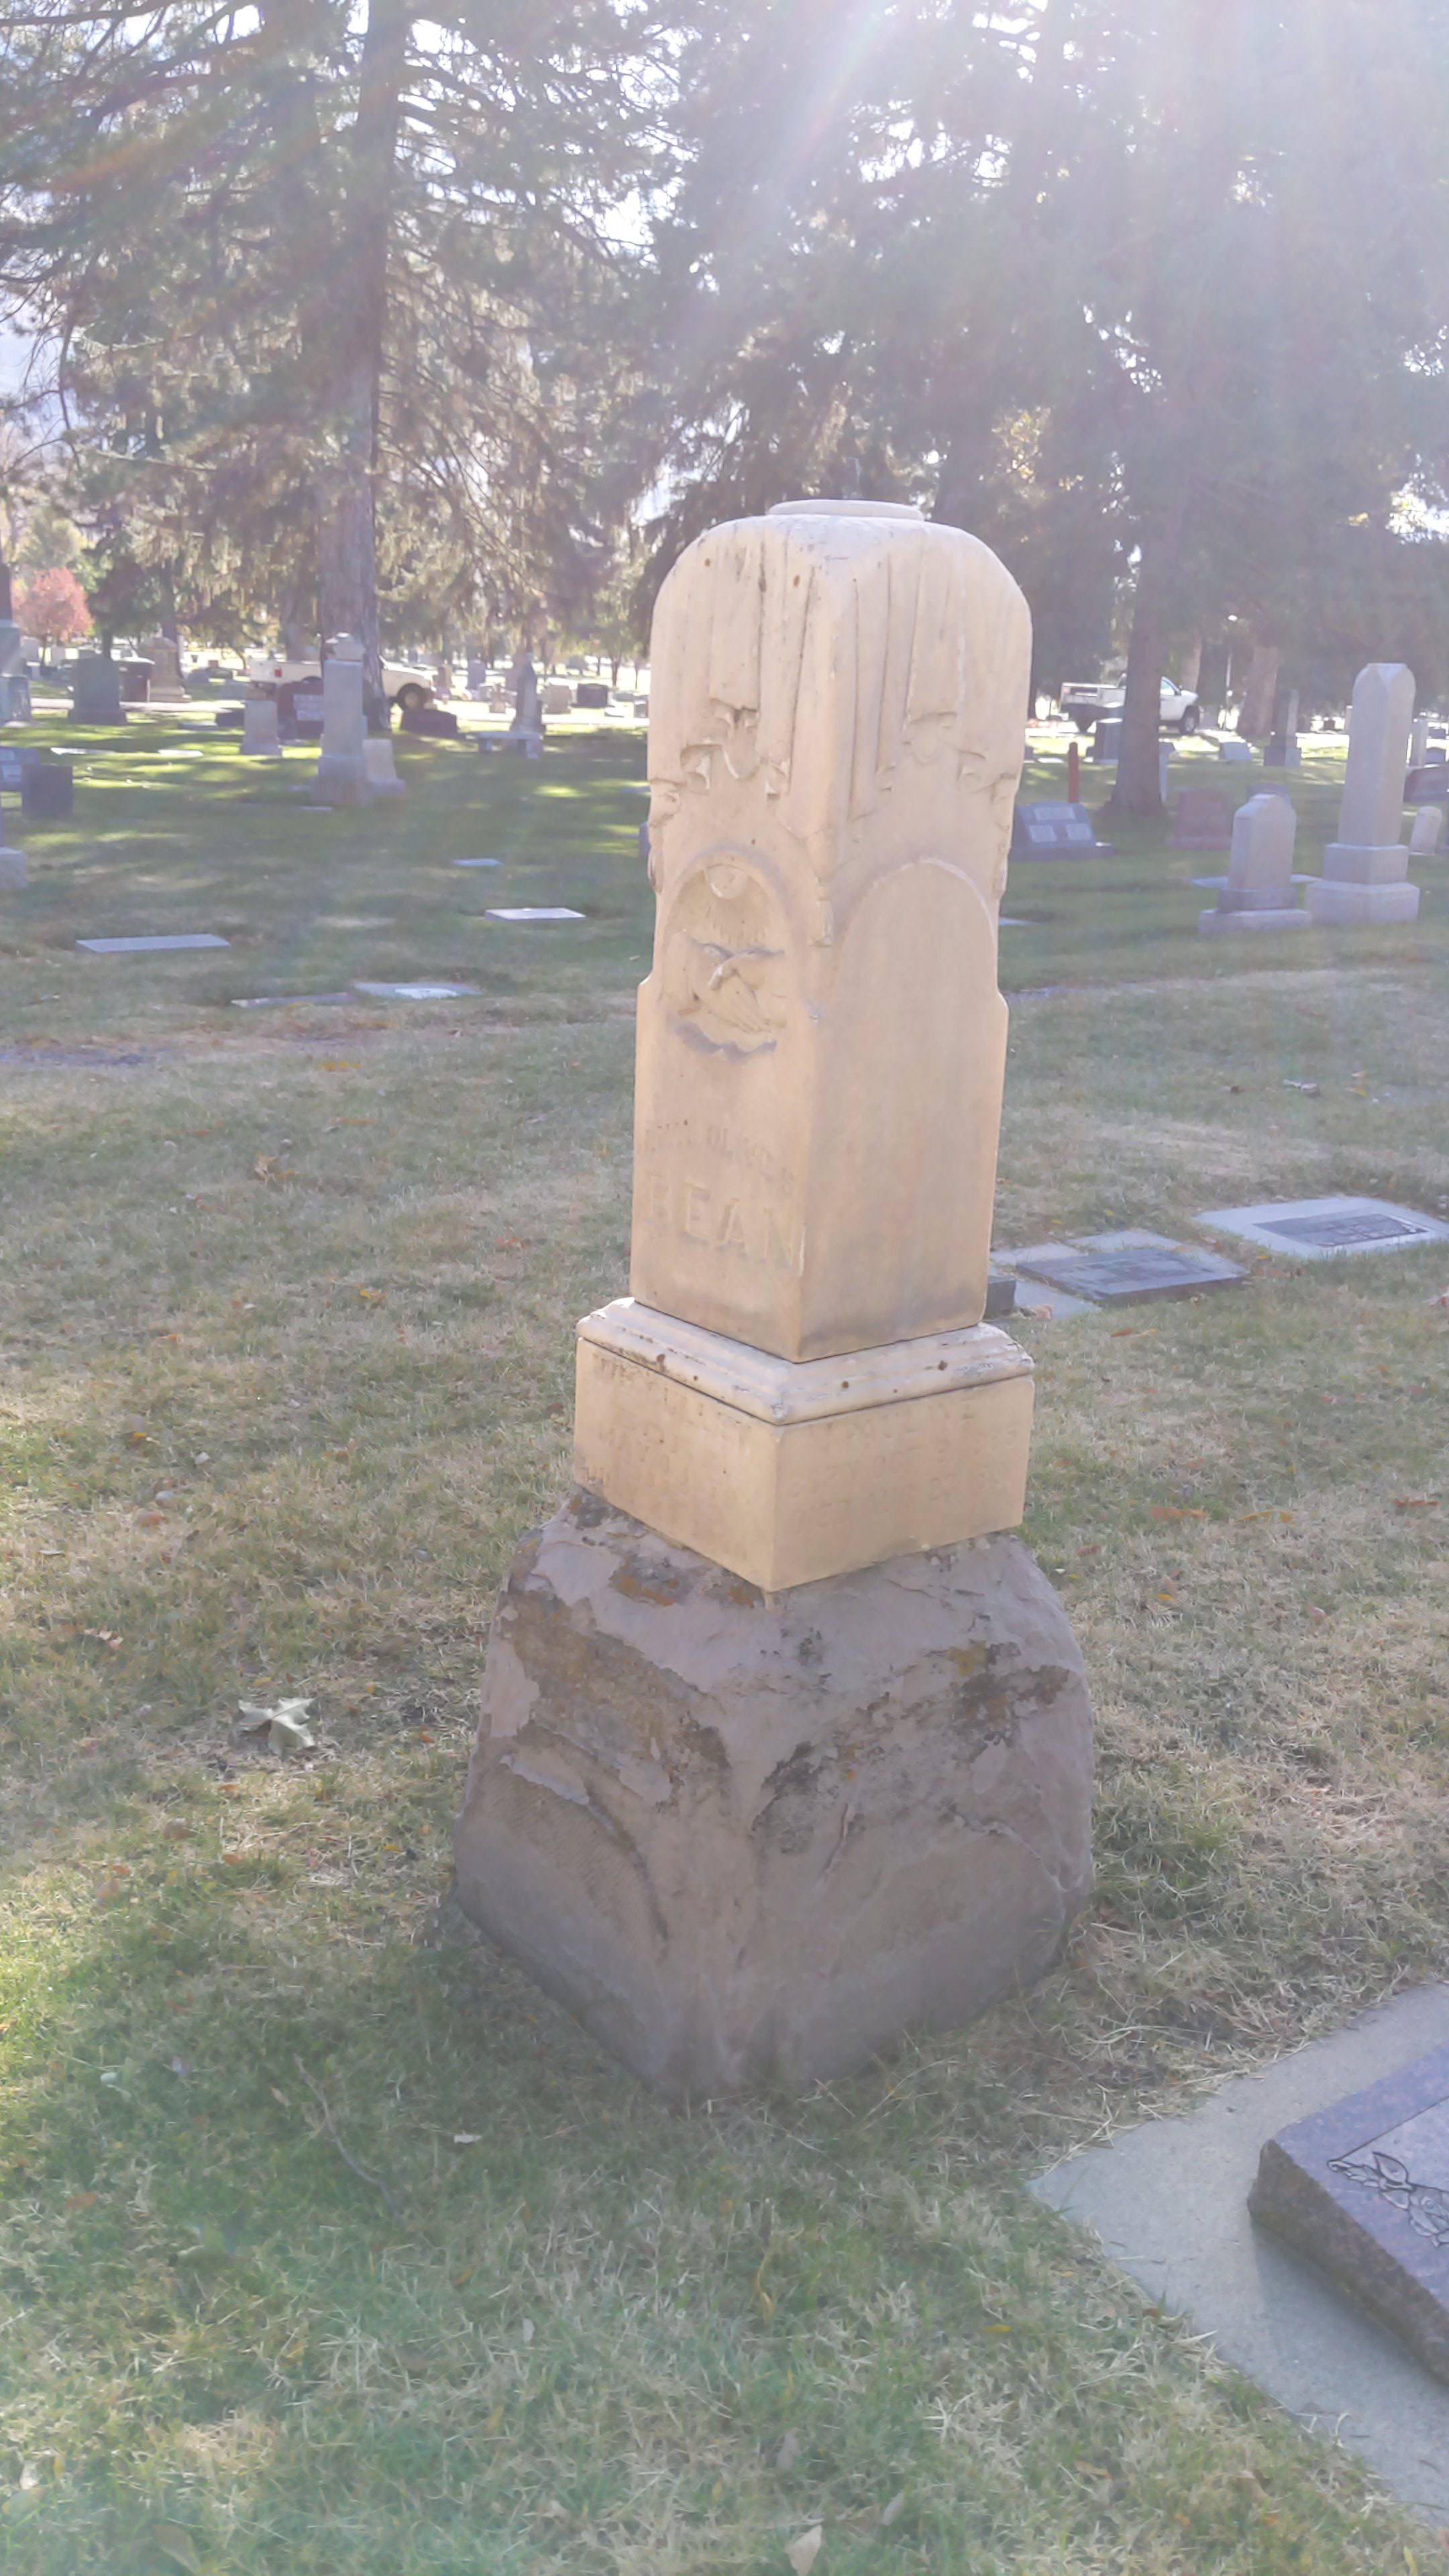obelisk: (573, 499, 1039, 1585)
